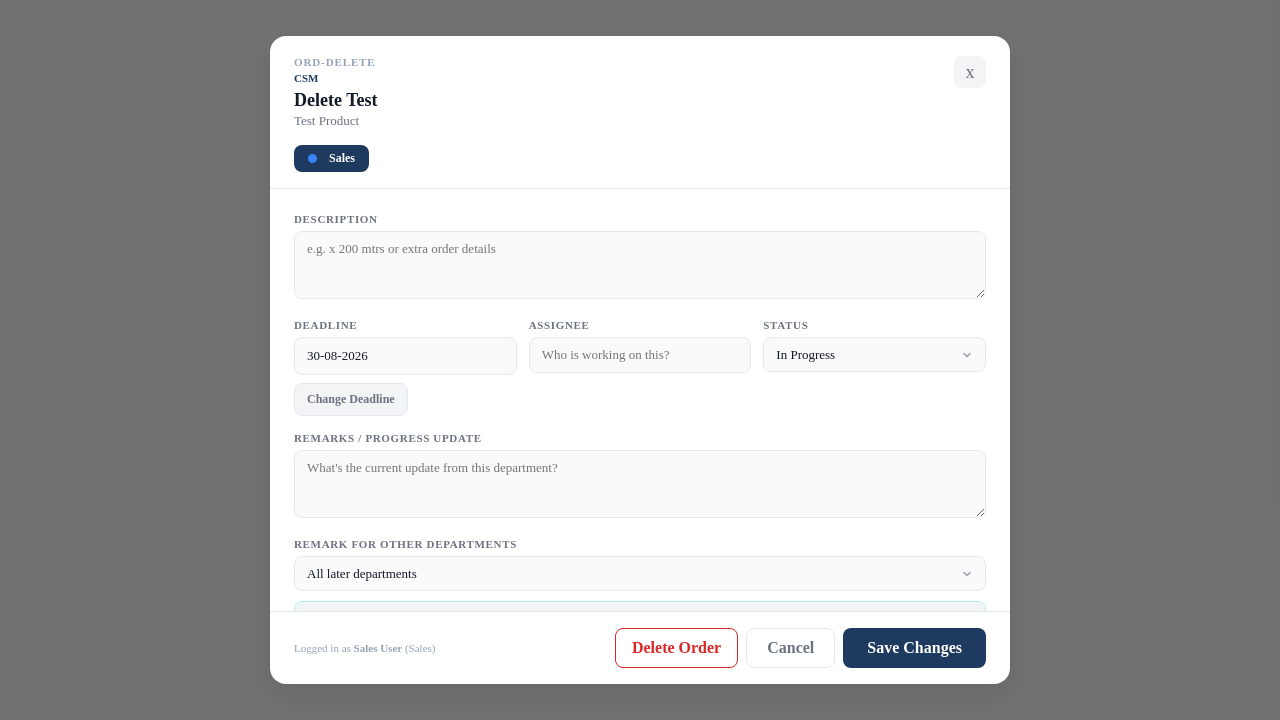
it: OrderModal unsaved changes › continues editing without losing the entered values
The width and height of the screenshot is (1280, 720).
In the field with placeholder "Who is working on this?": (640, 355) [529,337,751,373], type "Aaryan"
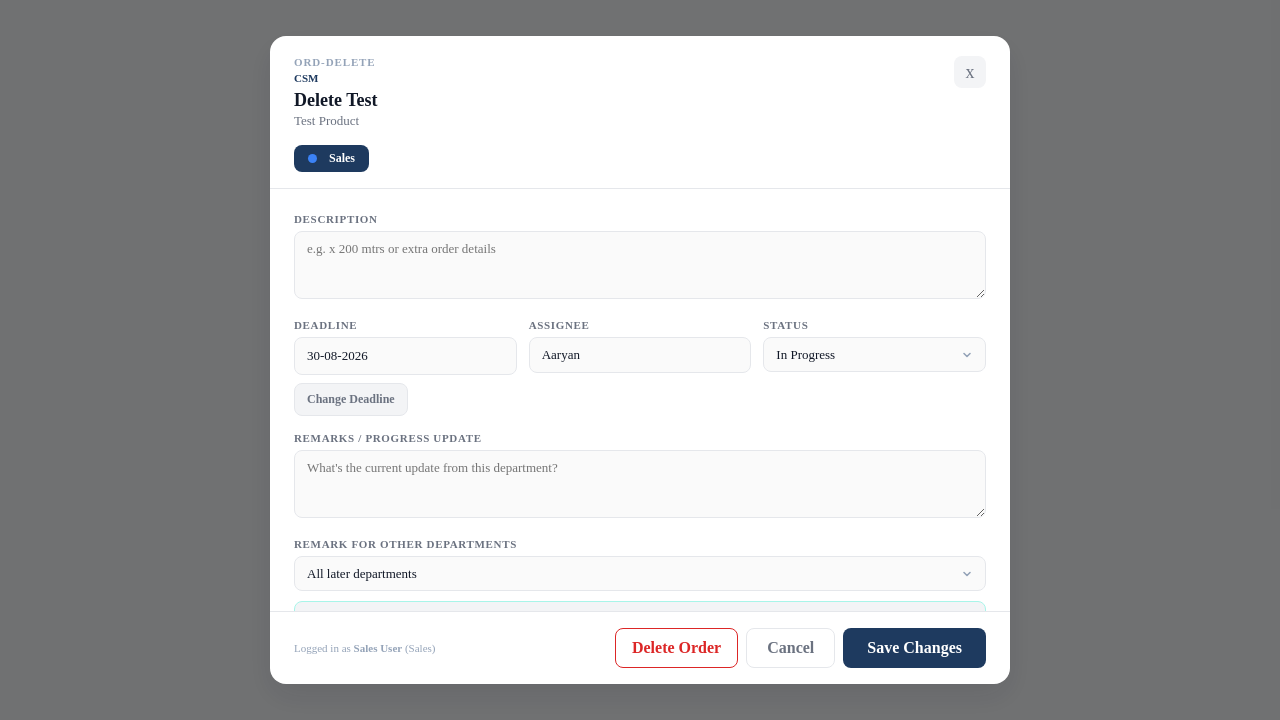
Click the button "Cancel": (791, 648) [746,628,835,668]
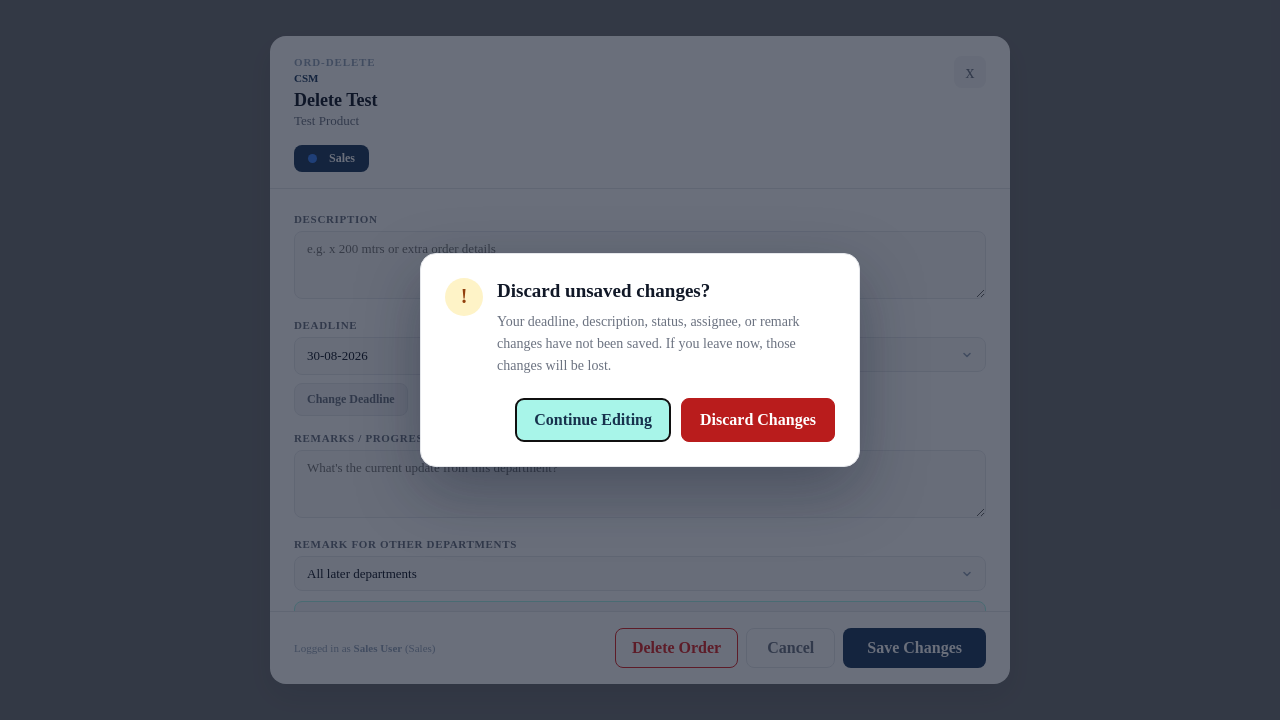
Click the button "Continue Editing": (593, 420) [515,398,671,442]
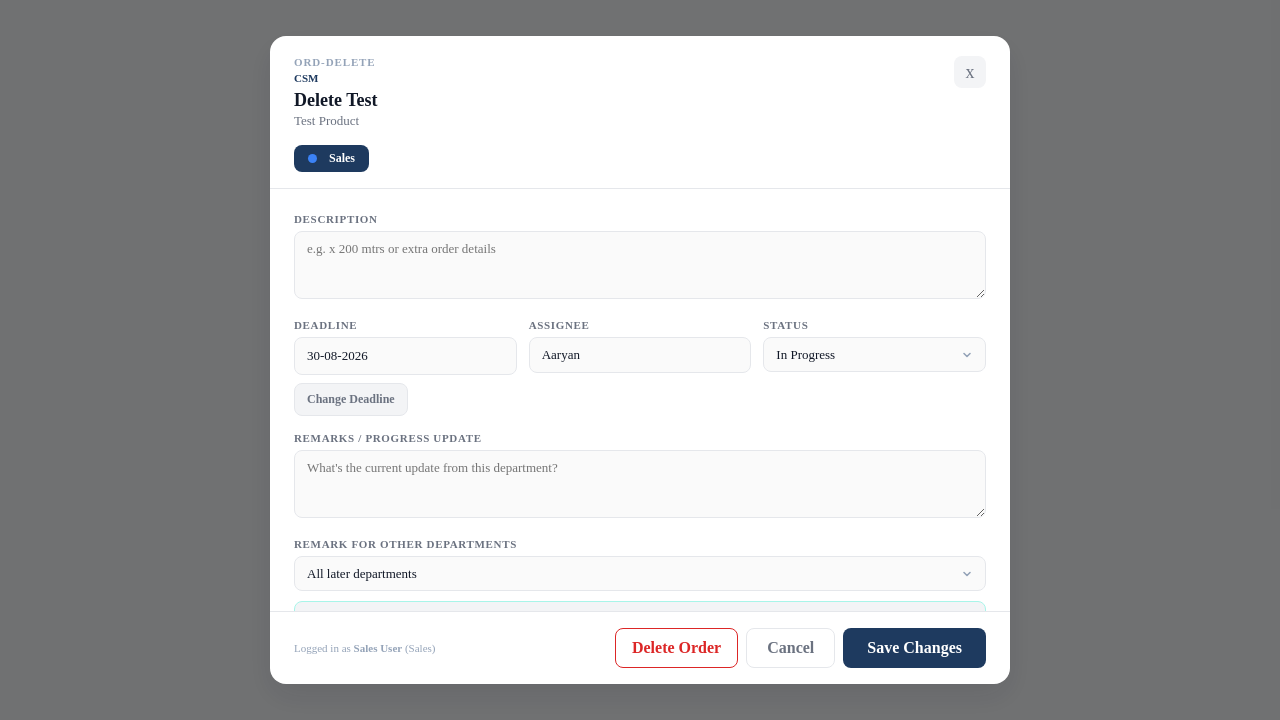
Check: the dialog is gone
